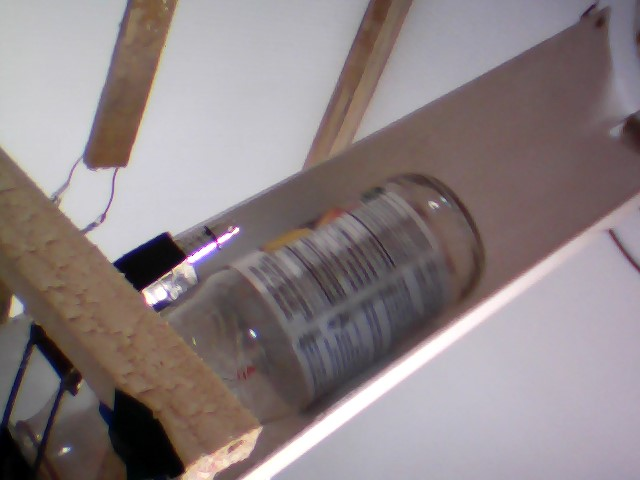vidrio: (175, 165, 493, 428)
